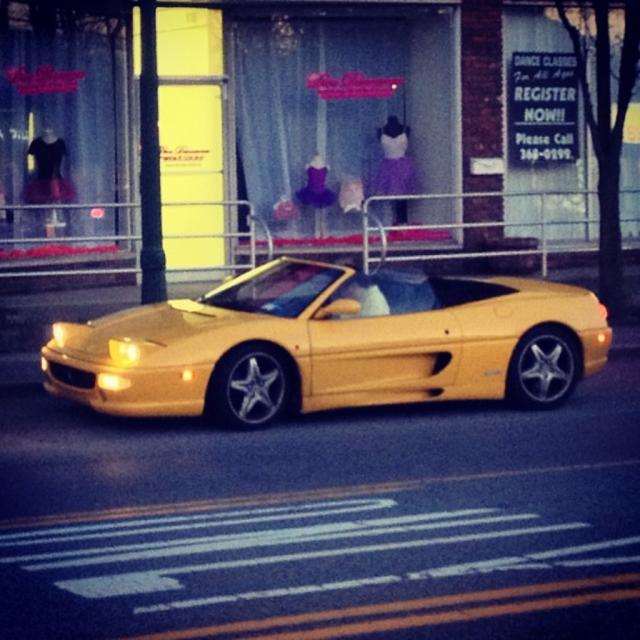car: (34, 255, 614, 434)
